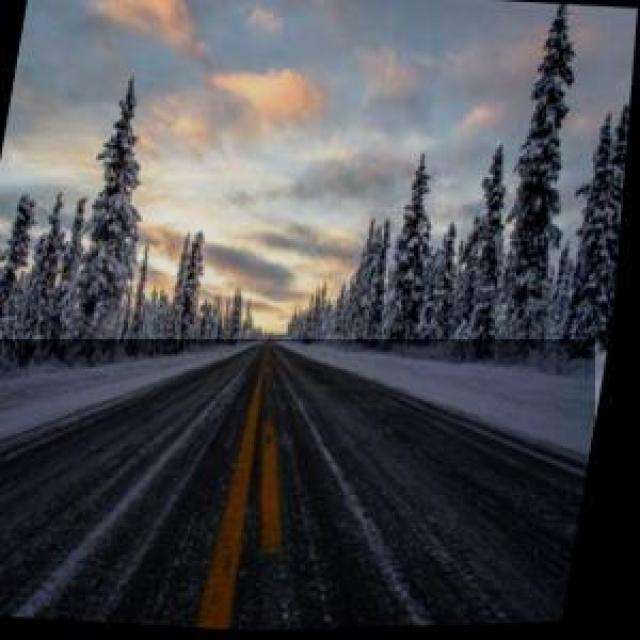ice-road: (0, 341, 595, 631)
